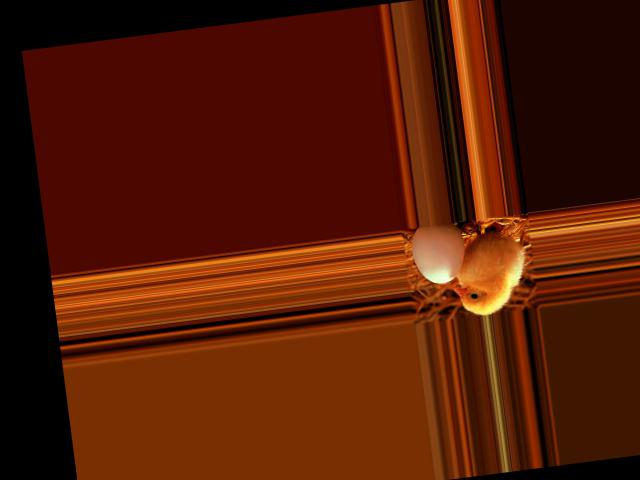egg: (409, 220, 469, 286)
